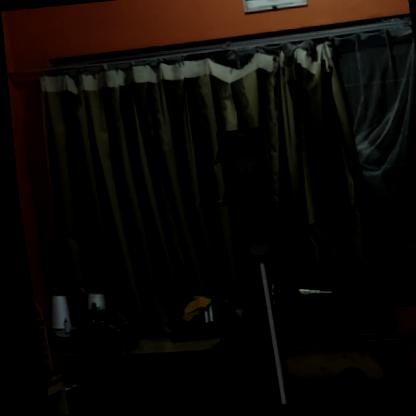green: (207, 129, 276, 265)
